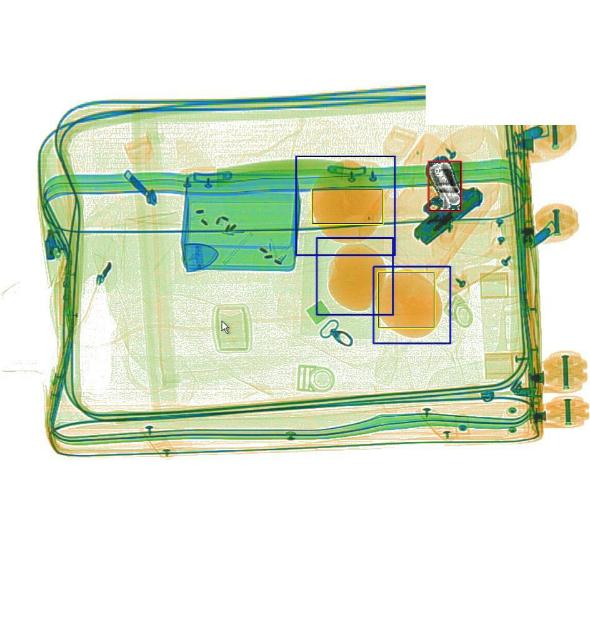Gun: (383, 149, 484, 247)
